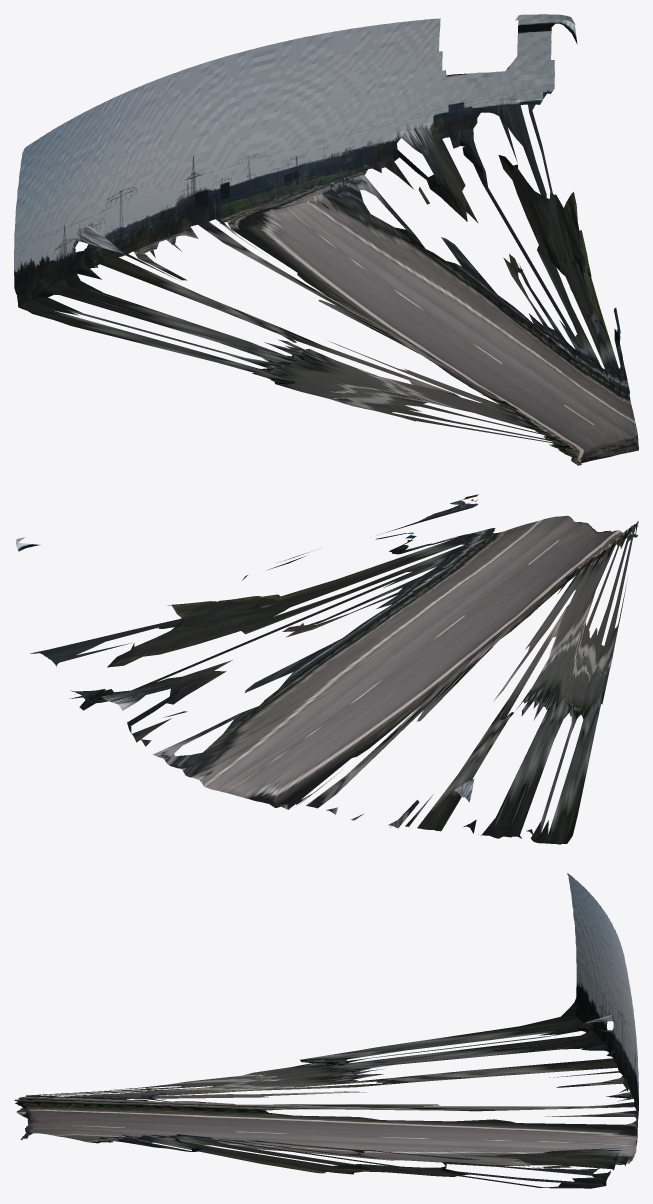
The picture shows the model from 3 angles, top to bottom: view 1: azimuth 30°, elevation 25°; view 2: azimuth 150°, elevation 25°; view 3: azimuth 270°, elevation 25°; orthographic projection. The views are drawn at different scales.
Visible parts, largest first — view 1: defaultobject; view 2: defaultobject; view 3: defaultobject.
Part boxes in pixels (x1,y1,x2,y2): defaultobject: (14, 14, 638, 465); defaultobject: (16, 494, 638, 844); defaultobject: (14, 873, 638, 1188).
Size of the model in its own units: 40.62 by 12.76 by 44.91.
Materials: 1 (1 with a texture image).
